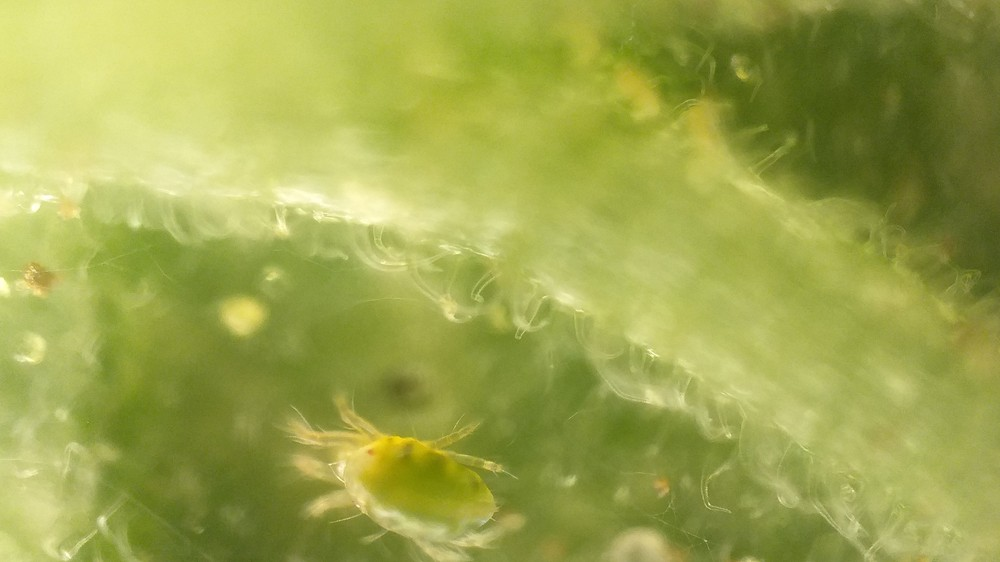Aracnido Rojo: (267, 388, 560, 562)
